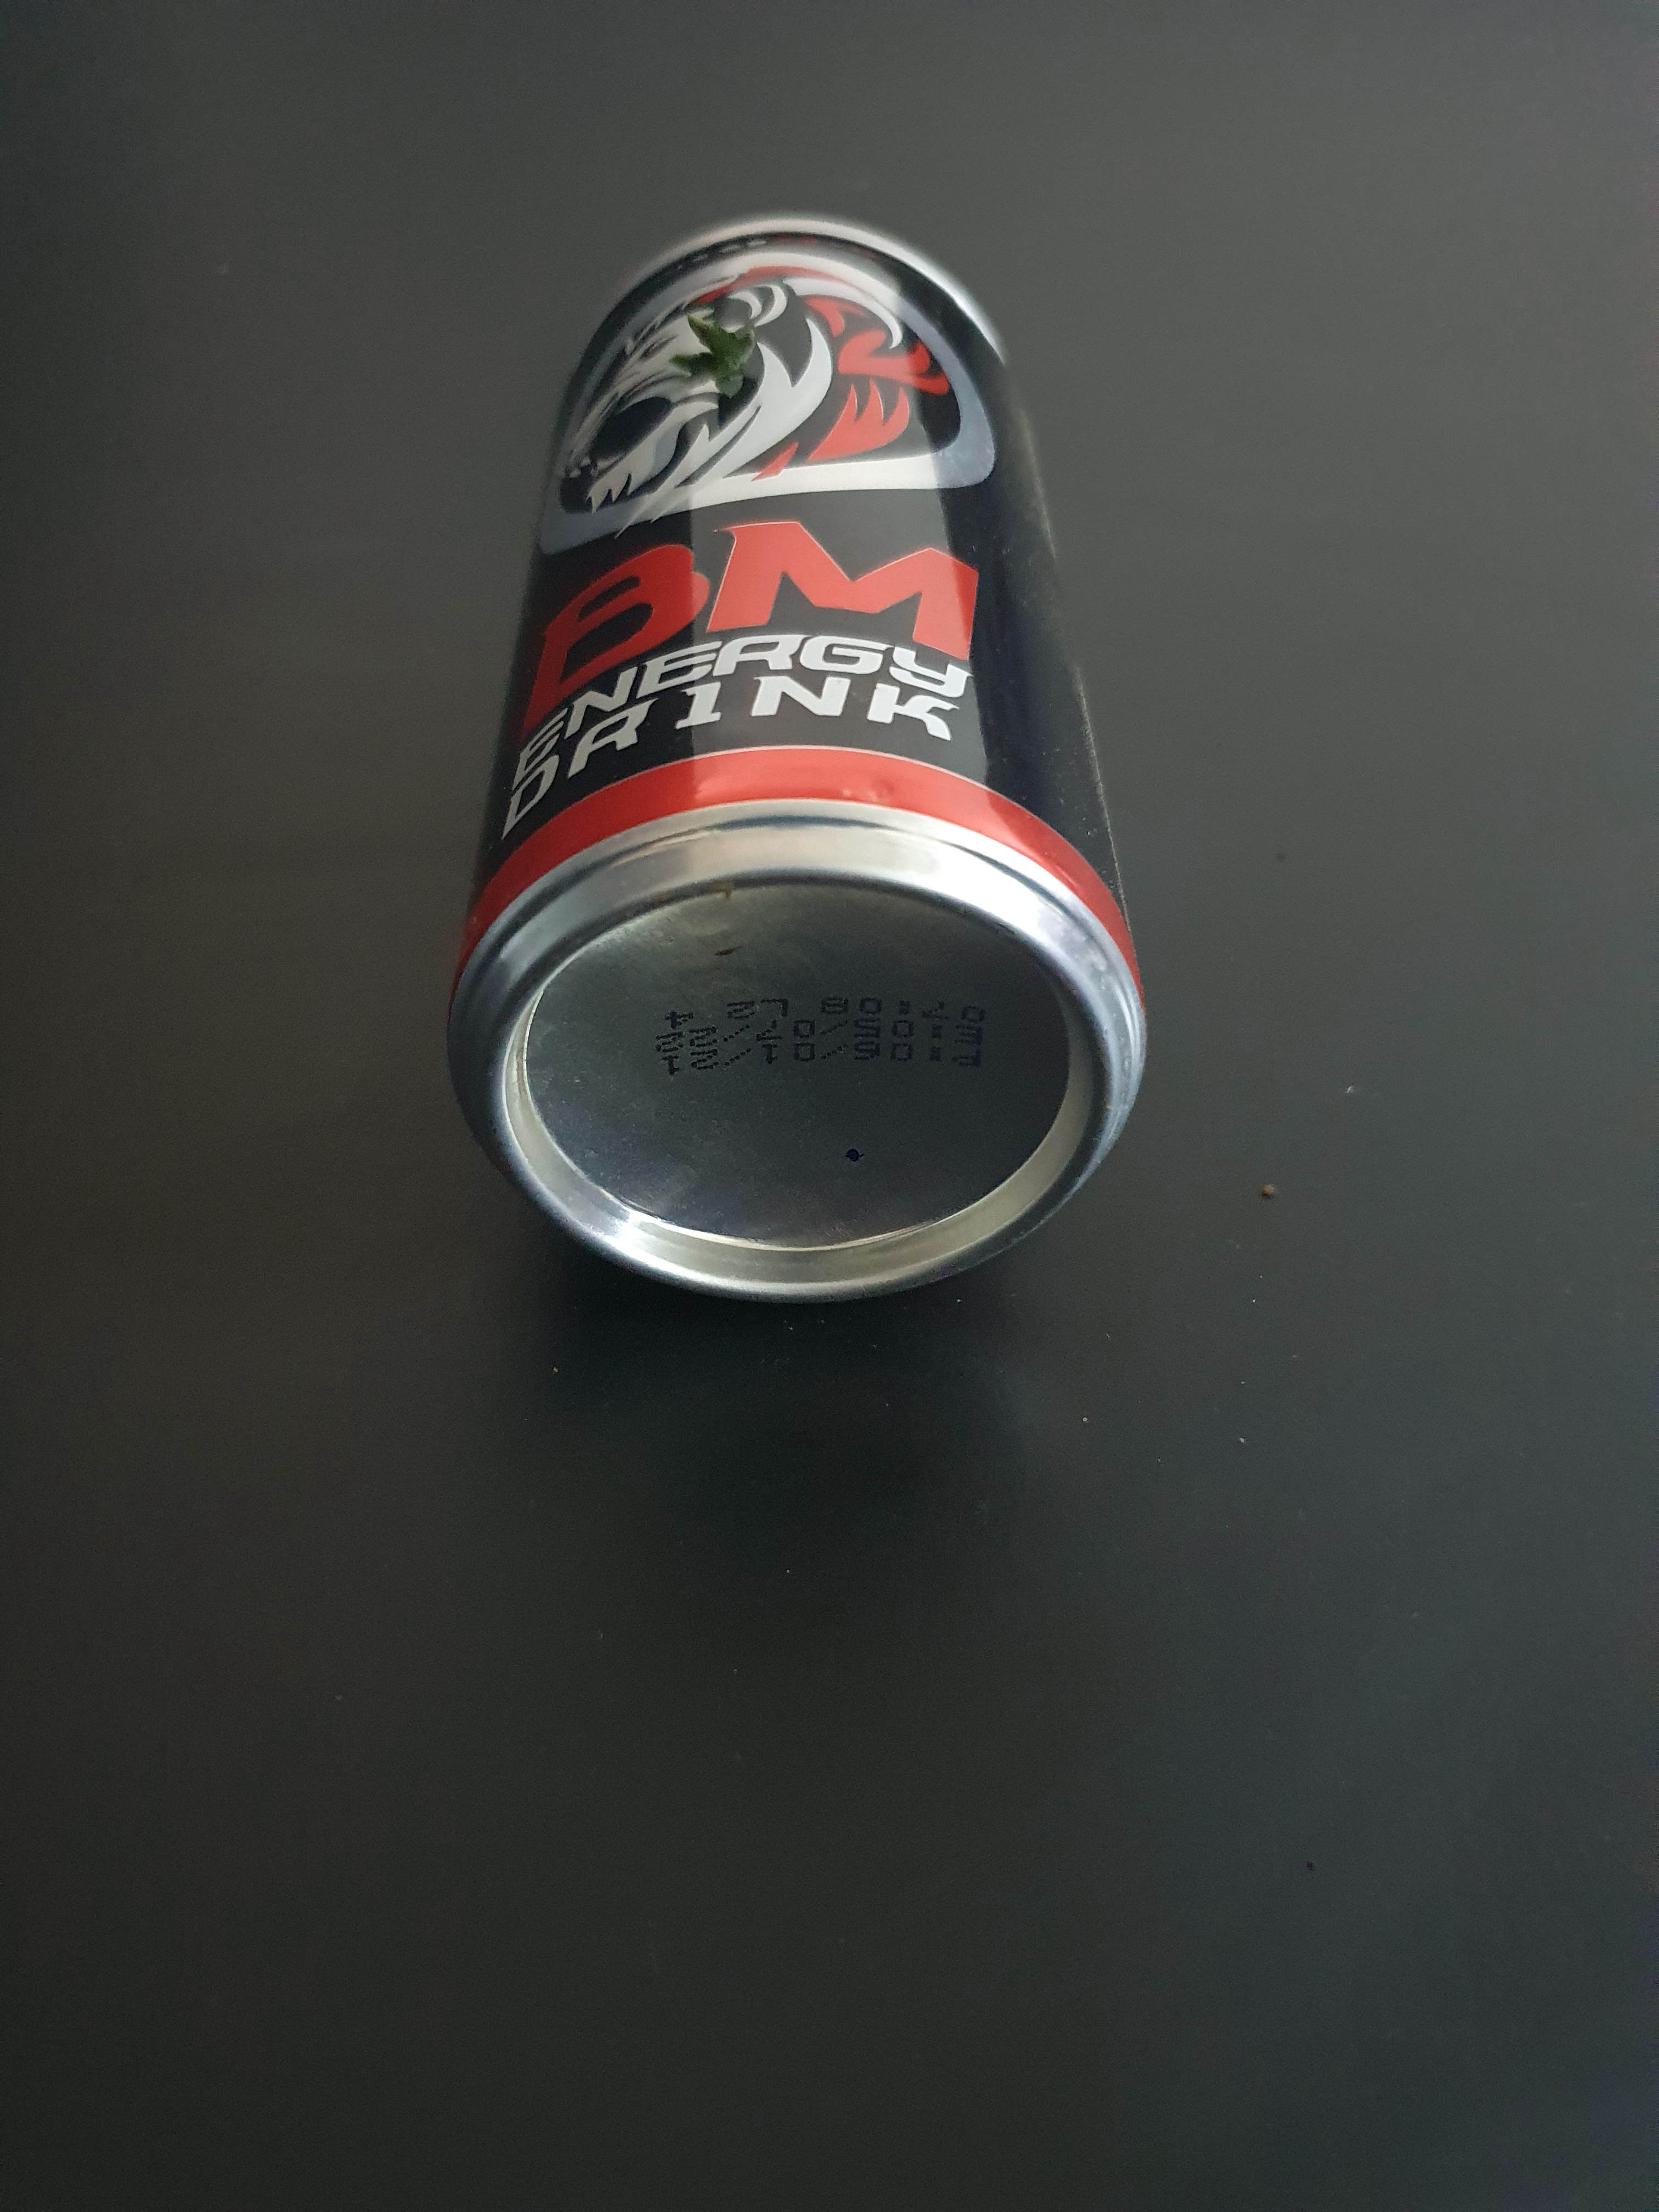metal: (430, 165, 1168, 1379)
